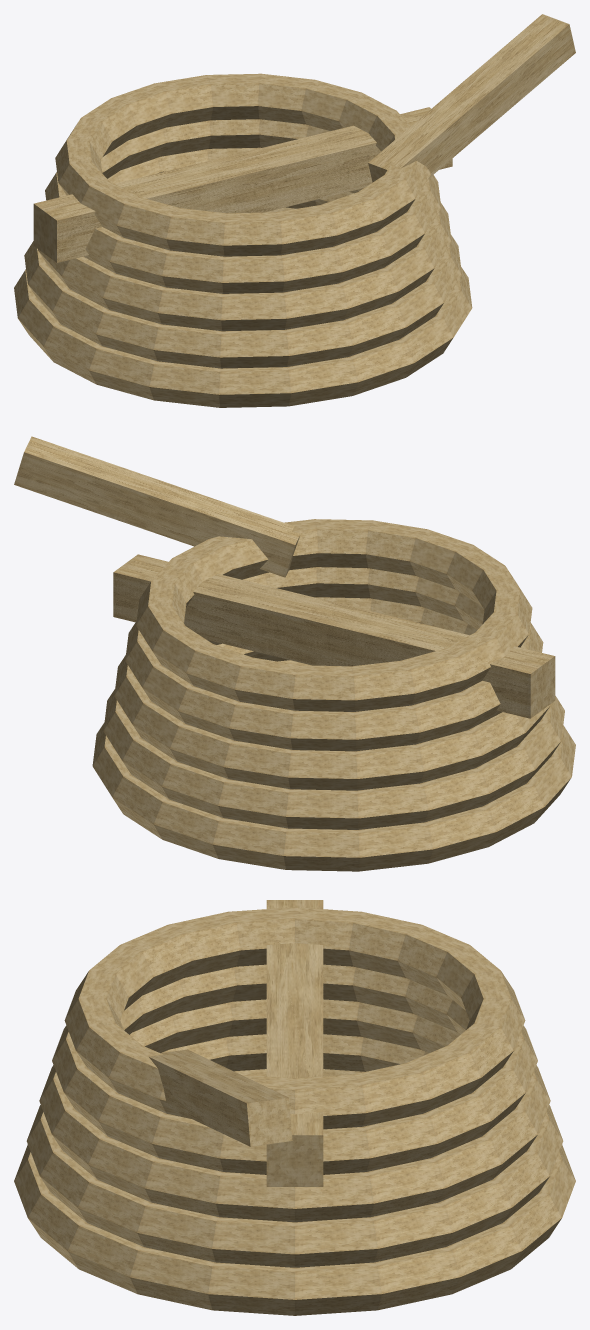
Rendered from ITM_FIBER_BUNDLE_001.obj.
3 views of the same model, one above another, from view 1: azimuth 30°, elevation 25°; view 2: azimuth 150°, elevation 25°; view 3: azimuth 270°, elevation 25° (orthographic). The views are drawn at different scales.
Visible parts, largest first — view 1: BraidedFiberMass, BundleTie, DistinctLooseFiber; view 2: BraidedFiberMass, BundleTie, DistinctLooseFiber; view 3: BraidedFiberMass, BundleTie, DistinctLooseFiber.
Part boxes in pixels (x1,y1,x2,y2): BraidedFiberMass: (14,73,472,407); BundleTie: (33,107,452,262); DistinctLooseFiber: (368,14,575,182); BraidedFiberMass: (92,519,575,871); BundleTie: (113,554,555,718); DistinctLooseFiber: (14,436,300,577); BraidedFiberMass: (14,907,575,1315); BundleTie: (266,900,323,1186); DistinctLooseFiber: (149,1049,292,1146).
Size of the model in its own units: 0.572 by 0.2459 by 0.444.
2 materials, 2 textured.
